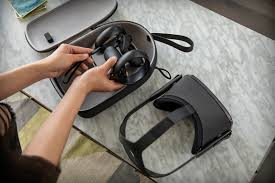oculus: (121, 75, 237, 178)
